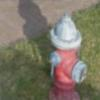a fire hydrant: (50, 12, 87, 100)
